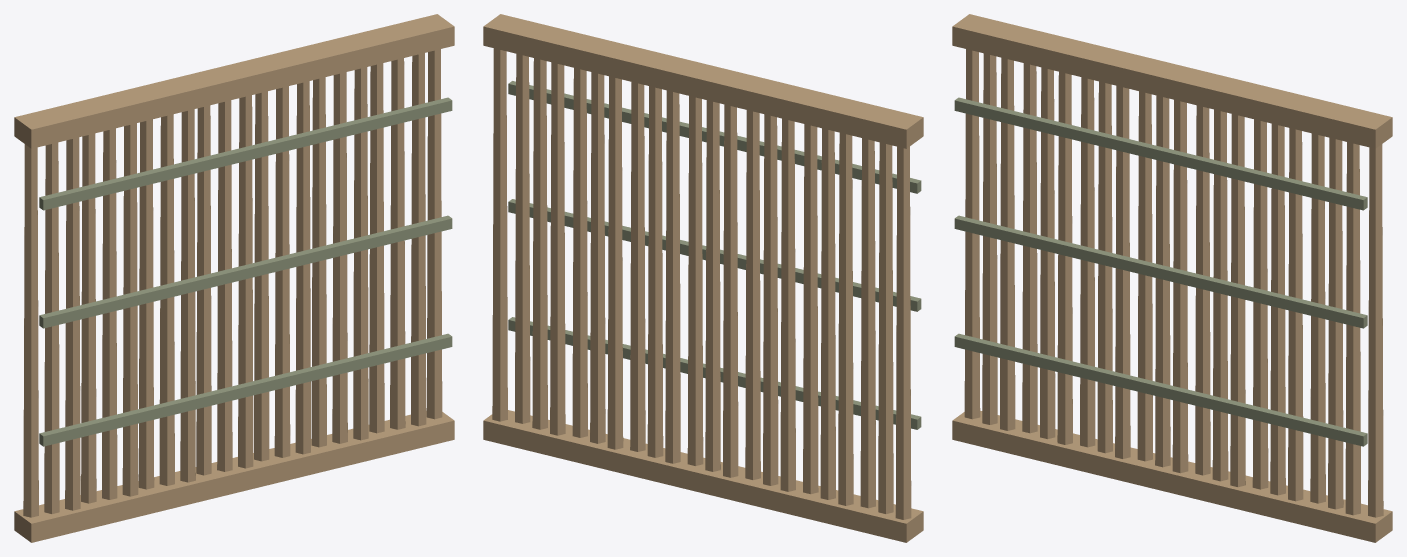
Rendered from wipe-day-survival-island-twig-wall-6398160d__27494.glb.
3 views of the same model, side by side, from view 1: azimuth 30°, elevation 25°; view 2: azimuth 150°, elevation 25°; view 3: azimuth 330°, elevation 25° (orthographic).
Parts seen in each view (by area): view 1: twig-wall; view 2: twig-wall; view 3: twig-wall.
Part boxes in pixels (x1,y1,x2,y2): twig-wall: [14, 14, 454, 542]; twig-wall: [483, 14, 923, 542]; twig-wall: [952, 14, 1392, 542].
Size of the model in its own units: 3 by 2.8 by 0.2699.
